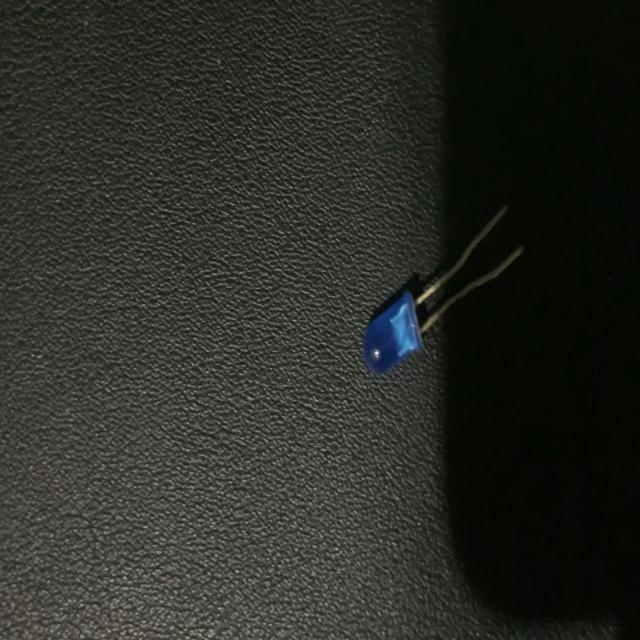LED: (360, 199, 526, 378)
